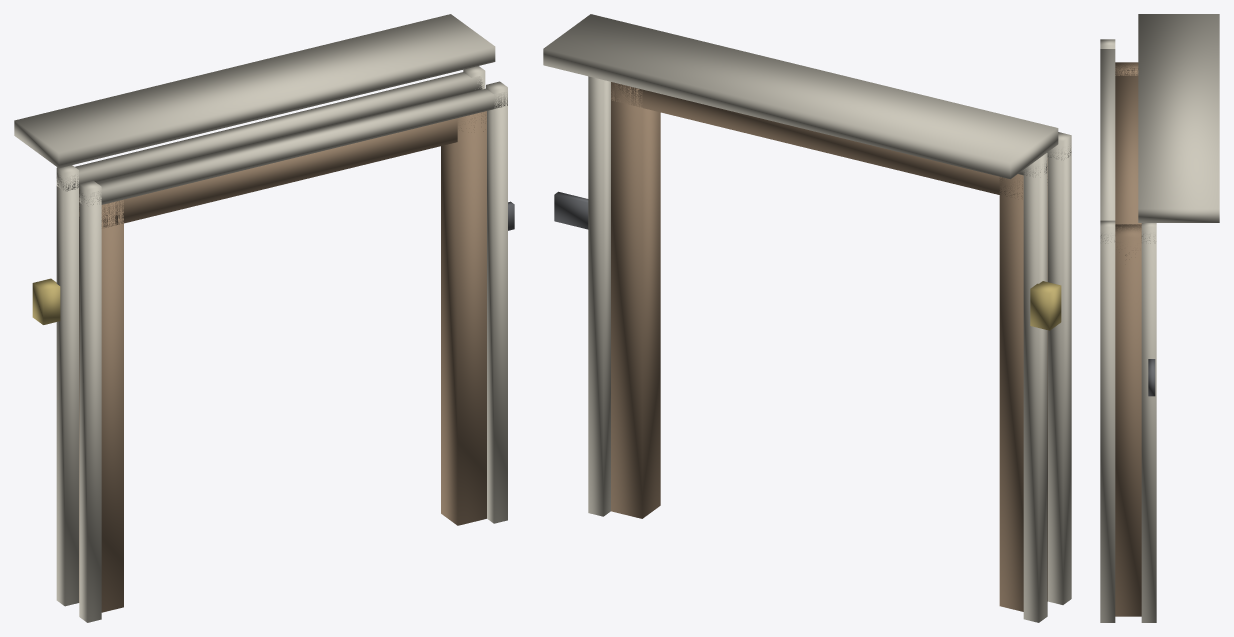
Rendered from doorway_motel_w182_h200_d16.glb.
3 views of the same model, side by side, from view 1: azimuth 30°, elevation 25°; view 2: azimuth 150°, elevation 25°; view 3: azimuth 270°, elevation 25° (orthographic). The views are drawn at different scales.
Parts seen in each view (by area): view 1: world; view 2: world; view 3: world.
Boxes of the visible parts, box(x1,y1,x2,y2) form: world: box(14, 14, 514, 622); world: box(543, 14, 1071, 622); world: box(1100, 14, 1219, 622).
Bounding box in the file's own units: 2.57 × 2.38 × 0.6153.
